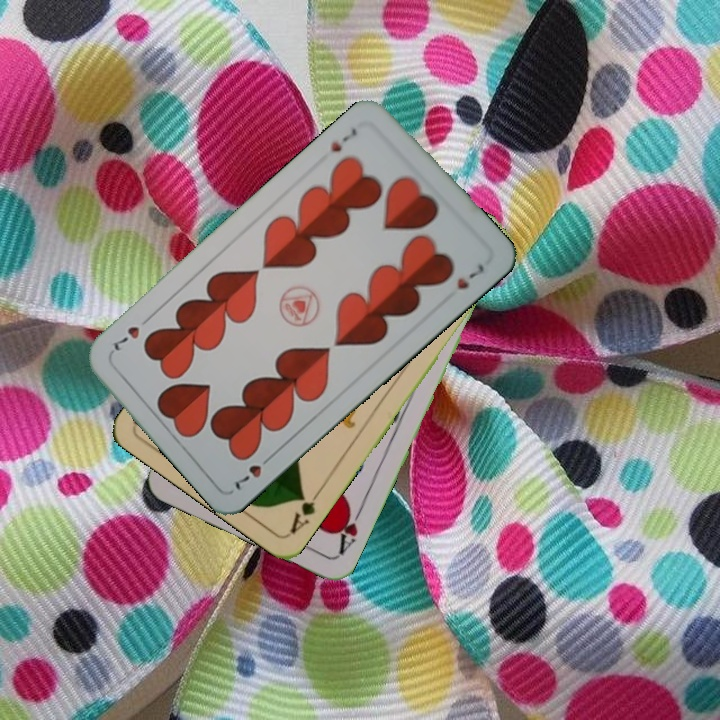GA: (286, 484, 324, 536)
H7: (231, 449, 277, 493), (326, 123, 360, 155)
HA: (332, 500, 366, 558)
